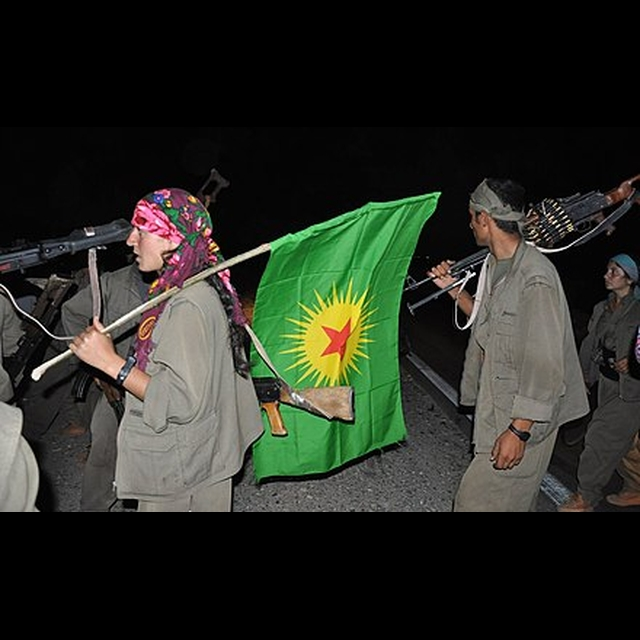KCK: (292, 277, 379, 408)
